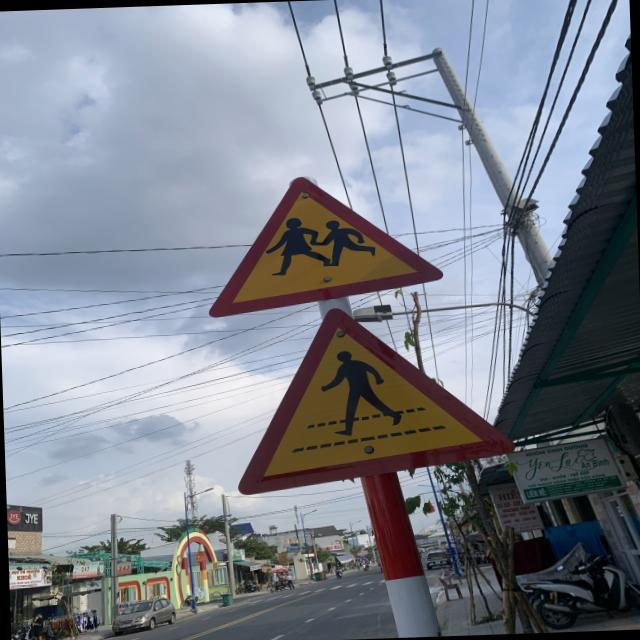Duong_Nguoi_Di_Bo_Sang_Ngang: (231, 300, 517, 494)
Vong_Xuyen: (203, 171, 447, 315)
